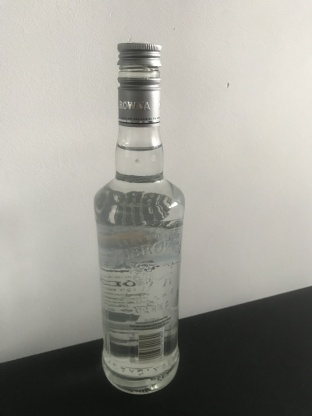nakretka: (116, 39, 162, 126)
